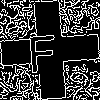F: (25, 25, 59, 73)
